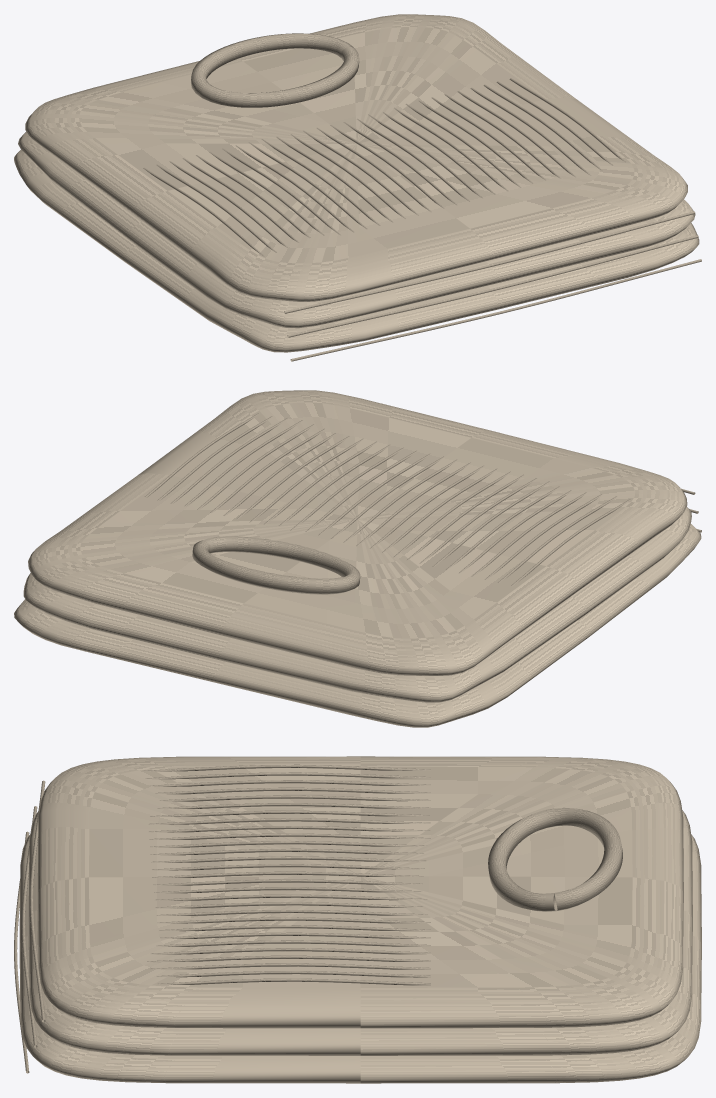
File: folded.glb
3 views of the same model, one above another, from view 1: azimuth 30°, elevation 25°; view 2: azimuth 150°, elevation 25°; view 3: azimuth 270°, elevation 25° (orthographic). The views are drawn at different scales.
Parts seen in each view (by area): view 1: fabric_linen, knit fabric seam; view 2: fabric_linen, knit fabric seam; view 3: fabric_linen, knit fabric seam.
Boxes of the visible parts, x1,y1,x2,y2 form: fabric_linen: (14,14,699,352); knit fabric seam: (143,33,701,361); fabric_linen: (14,390,701,727); knit fabric seam: (145,413,701,594); fabric_linen: (19,756,701,1083); knit fabric seam: (14,764,622,1073).
Size of the model in its own units: 0.3224 by 0.064 by 0.3428.
2 materials, 2 textured.
